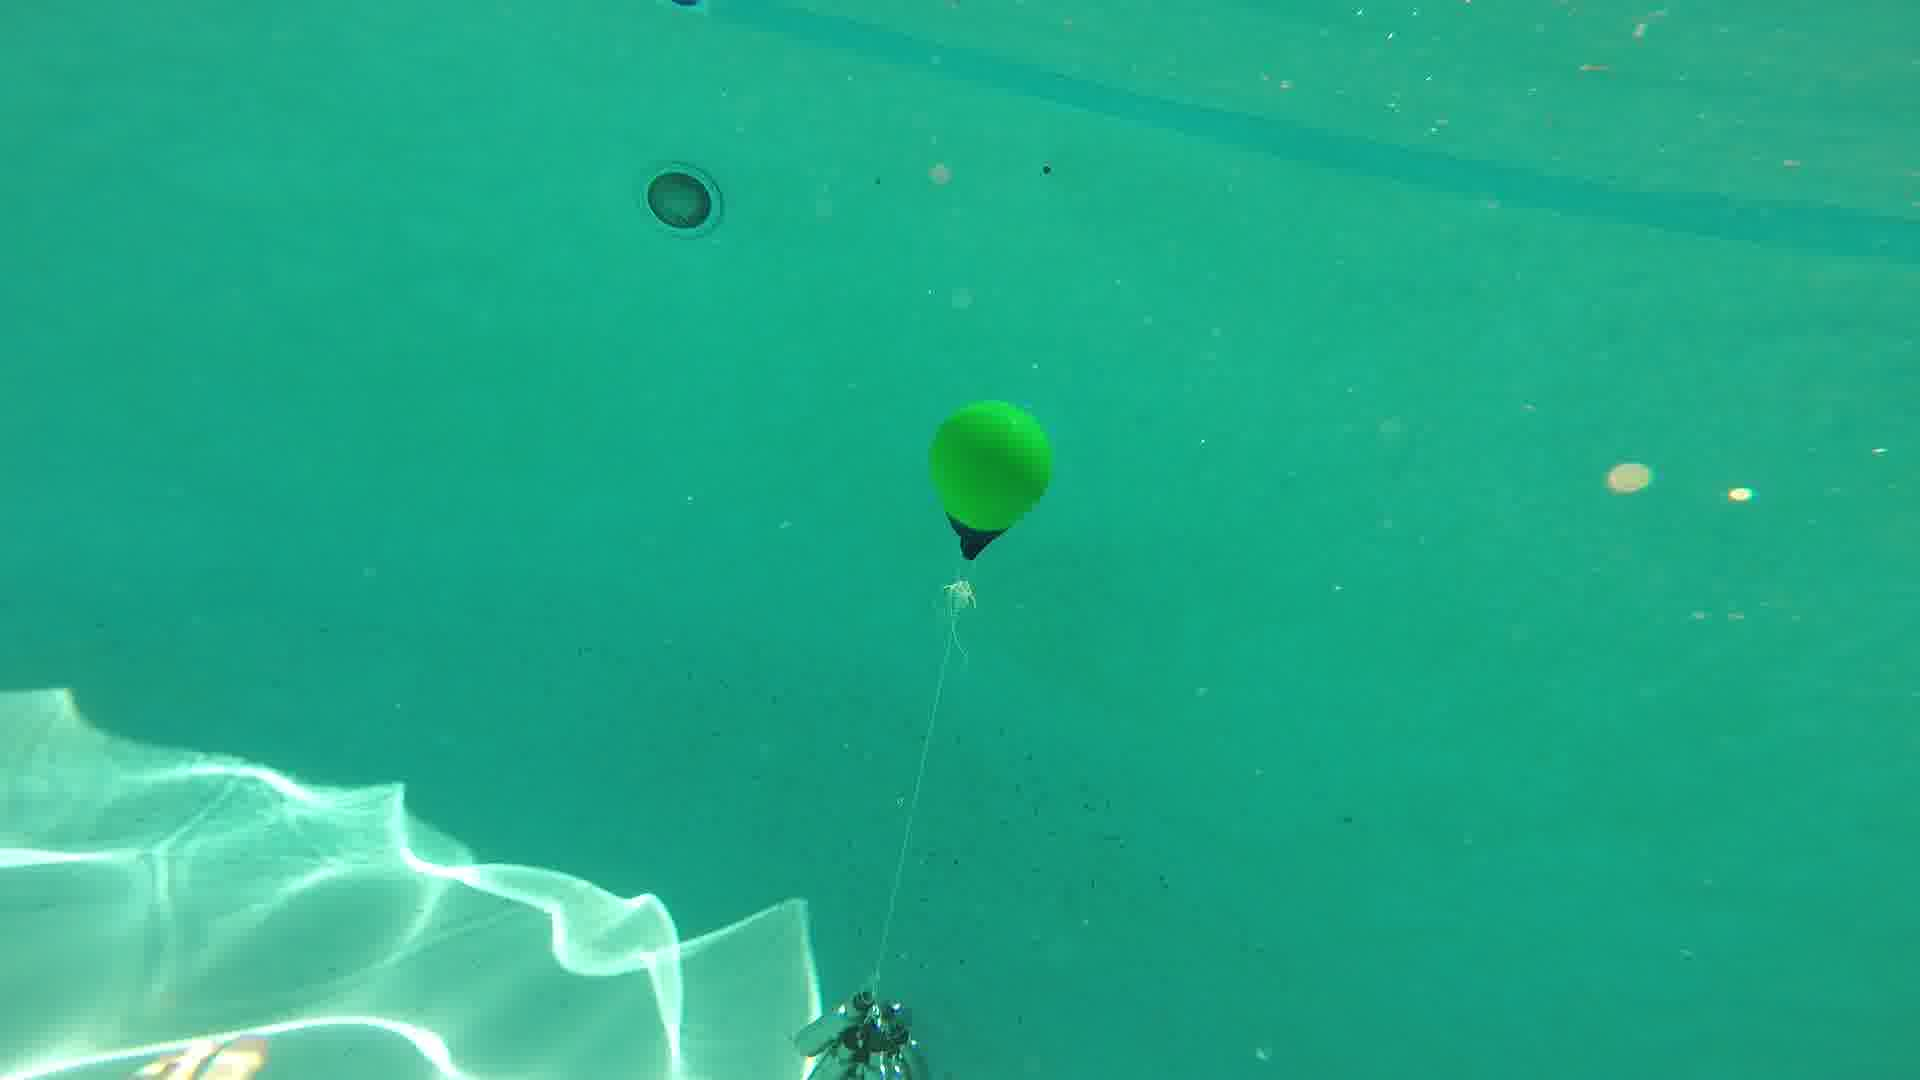yellow_buoy: (928, 400, 1054, 560)
